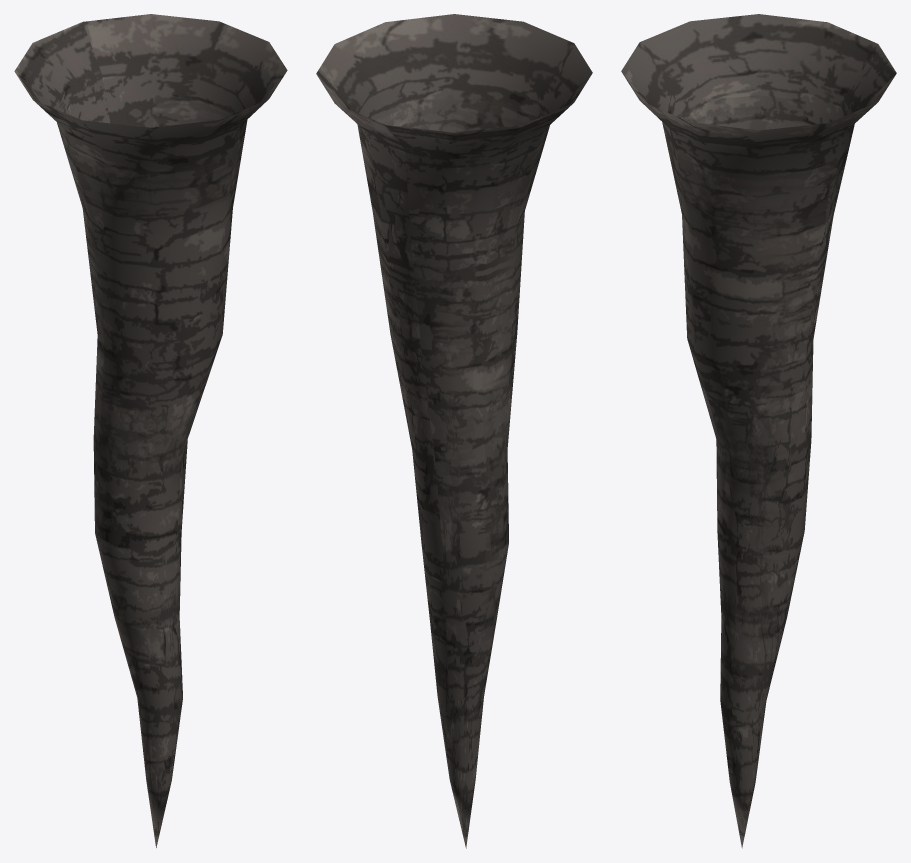
The model's file is Stage_Obj020.fbx.
3 views of the same model, side by side, from view 1: azimuth 30°, elevation 25°; view 2: azimuth 150°, elevation 25°; view 3: azimuth 270°, elevation 25° (orthographic).
Visible parts, largest first — view 1: Stage01_Obj020; view 2: Stage01_Obj020; view 3: Stage01_Obj020.
Boxes of the visible parts, bbox=[...] form: Stage01_Obj020: bbox=[14, 14, 287, 847]; Stage01_Obj020: bbox=[316, 14, 592, 848]; Stage01_Obj020: bbox=[621, 14, 896, 848].
Size of the model in its own units: 99.56 by 310 by 99.55.
Materials: 1 (1 with a texture image).
